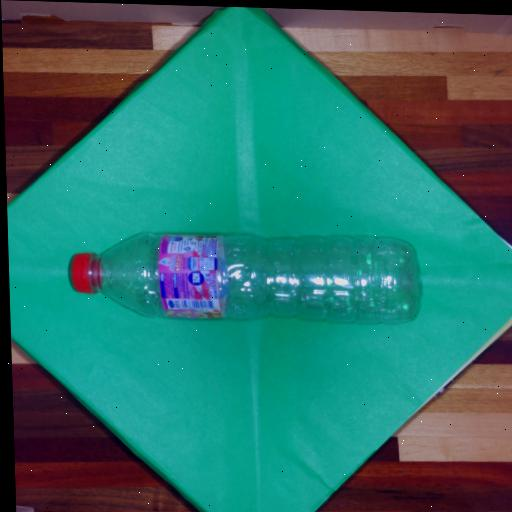bottle: (42, 219, 454, 353)
